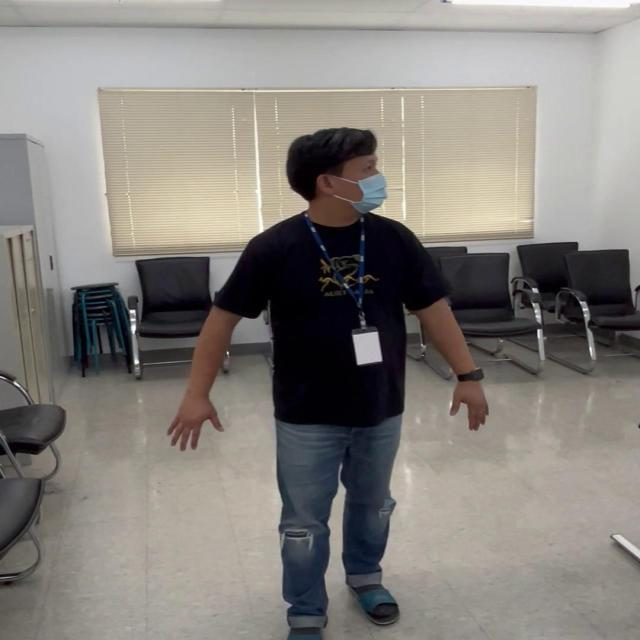bare_hand: (165, 389, 221, 454), (448, 374, 490, 434)
